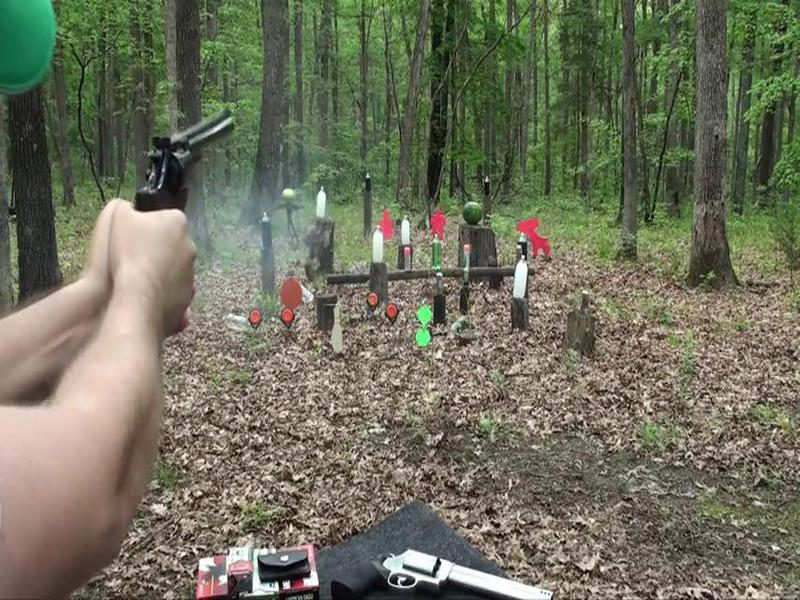Revolver: (131, 98, 247, 241)
